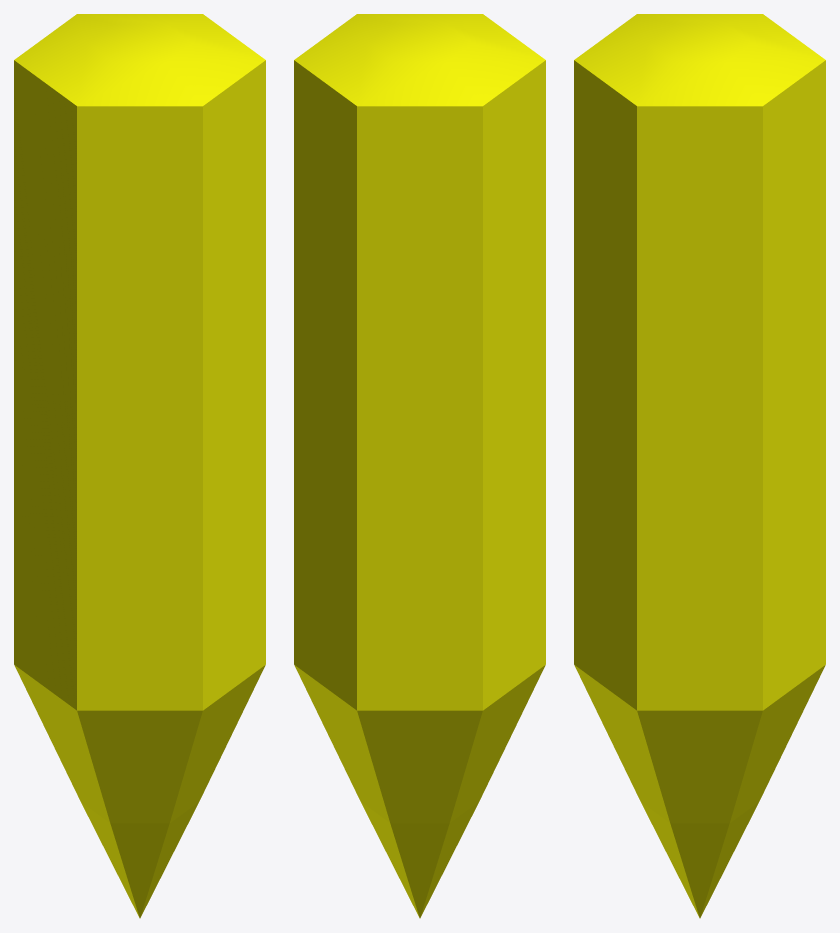
File: kaykit-pencil-a-short.glb
3 views of the same model, side by side, from view 1: azimuth 30°, elevation 25°; view 2: azimuth 150°, elevation 25°; view 3: azimuth 270°, elevation 25° (orthographic).
Visible parts, largest first — view 1: pencil_A_short; view 2: pencil_A_short; view 3: pencil_A_short.
Part boxes in pixels (bbox=[...]): pencil_A_short: bbox=[14, 14, 265, 918]; pencil_A_short: bbox=[294, 14, 545, 918]; pencil_A_short: bbox=[574, 14, 825, 918].
Size of the model in its own units: 0.0861 by 0.3812 by 0.0994.
